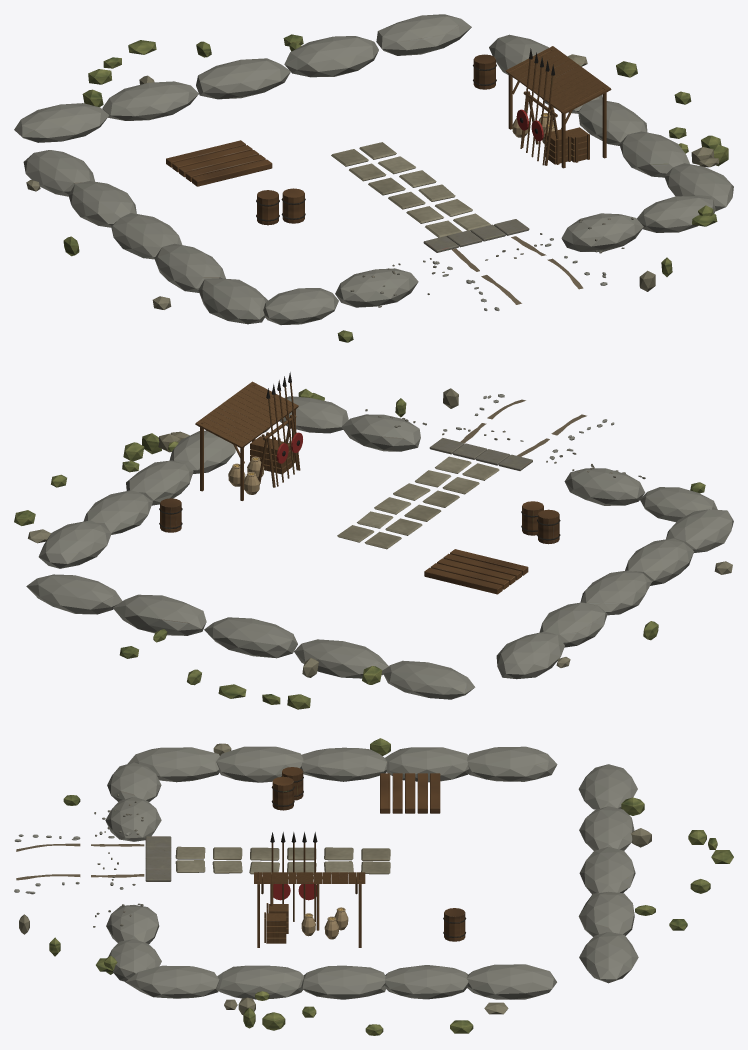
Rendered from SM_CastillaV11_Patio.fbx.
3 renders of one model, top to bottom at view 1: azimuth 30°, elevation 25°; view 2: azimuth 150°, elevation 25°; view 3: azimuth 270°, elevation 25°, orthographic. The views are drawn at different scales.
Parts seen in each view (by area): view 1: SM_CastillaV11_Patio; view 2: SM_CastillaV11_Patio; view 3: SM_CastillaV11_Patio.
Boxes of the visible parts, bbox=[...] form: SM_CastillaV11_Patio: bbox=[14, 14, 733, 342]; SM_CastillaV11_Patio: bbox=[14, 372, 733, 709]; SM_CastillaV11_Patio: bbox=[14, 738, 733, 1035].
Size of the model in its own units: 125 by 25.24 by 131.
Materials: 1 (1 with a texture image).
